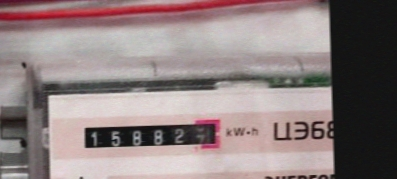1: (89, 131, 99, 147)
2: (173, 127, 184, 145)
5: (110, 130, 121, 146)
7: (196, 134, 205, 145)
8: (152, 129, 163, 146), (131, 131, 142, 147)
screen: (77, 115, 226, 158)
